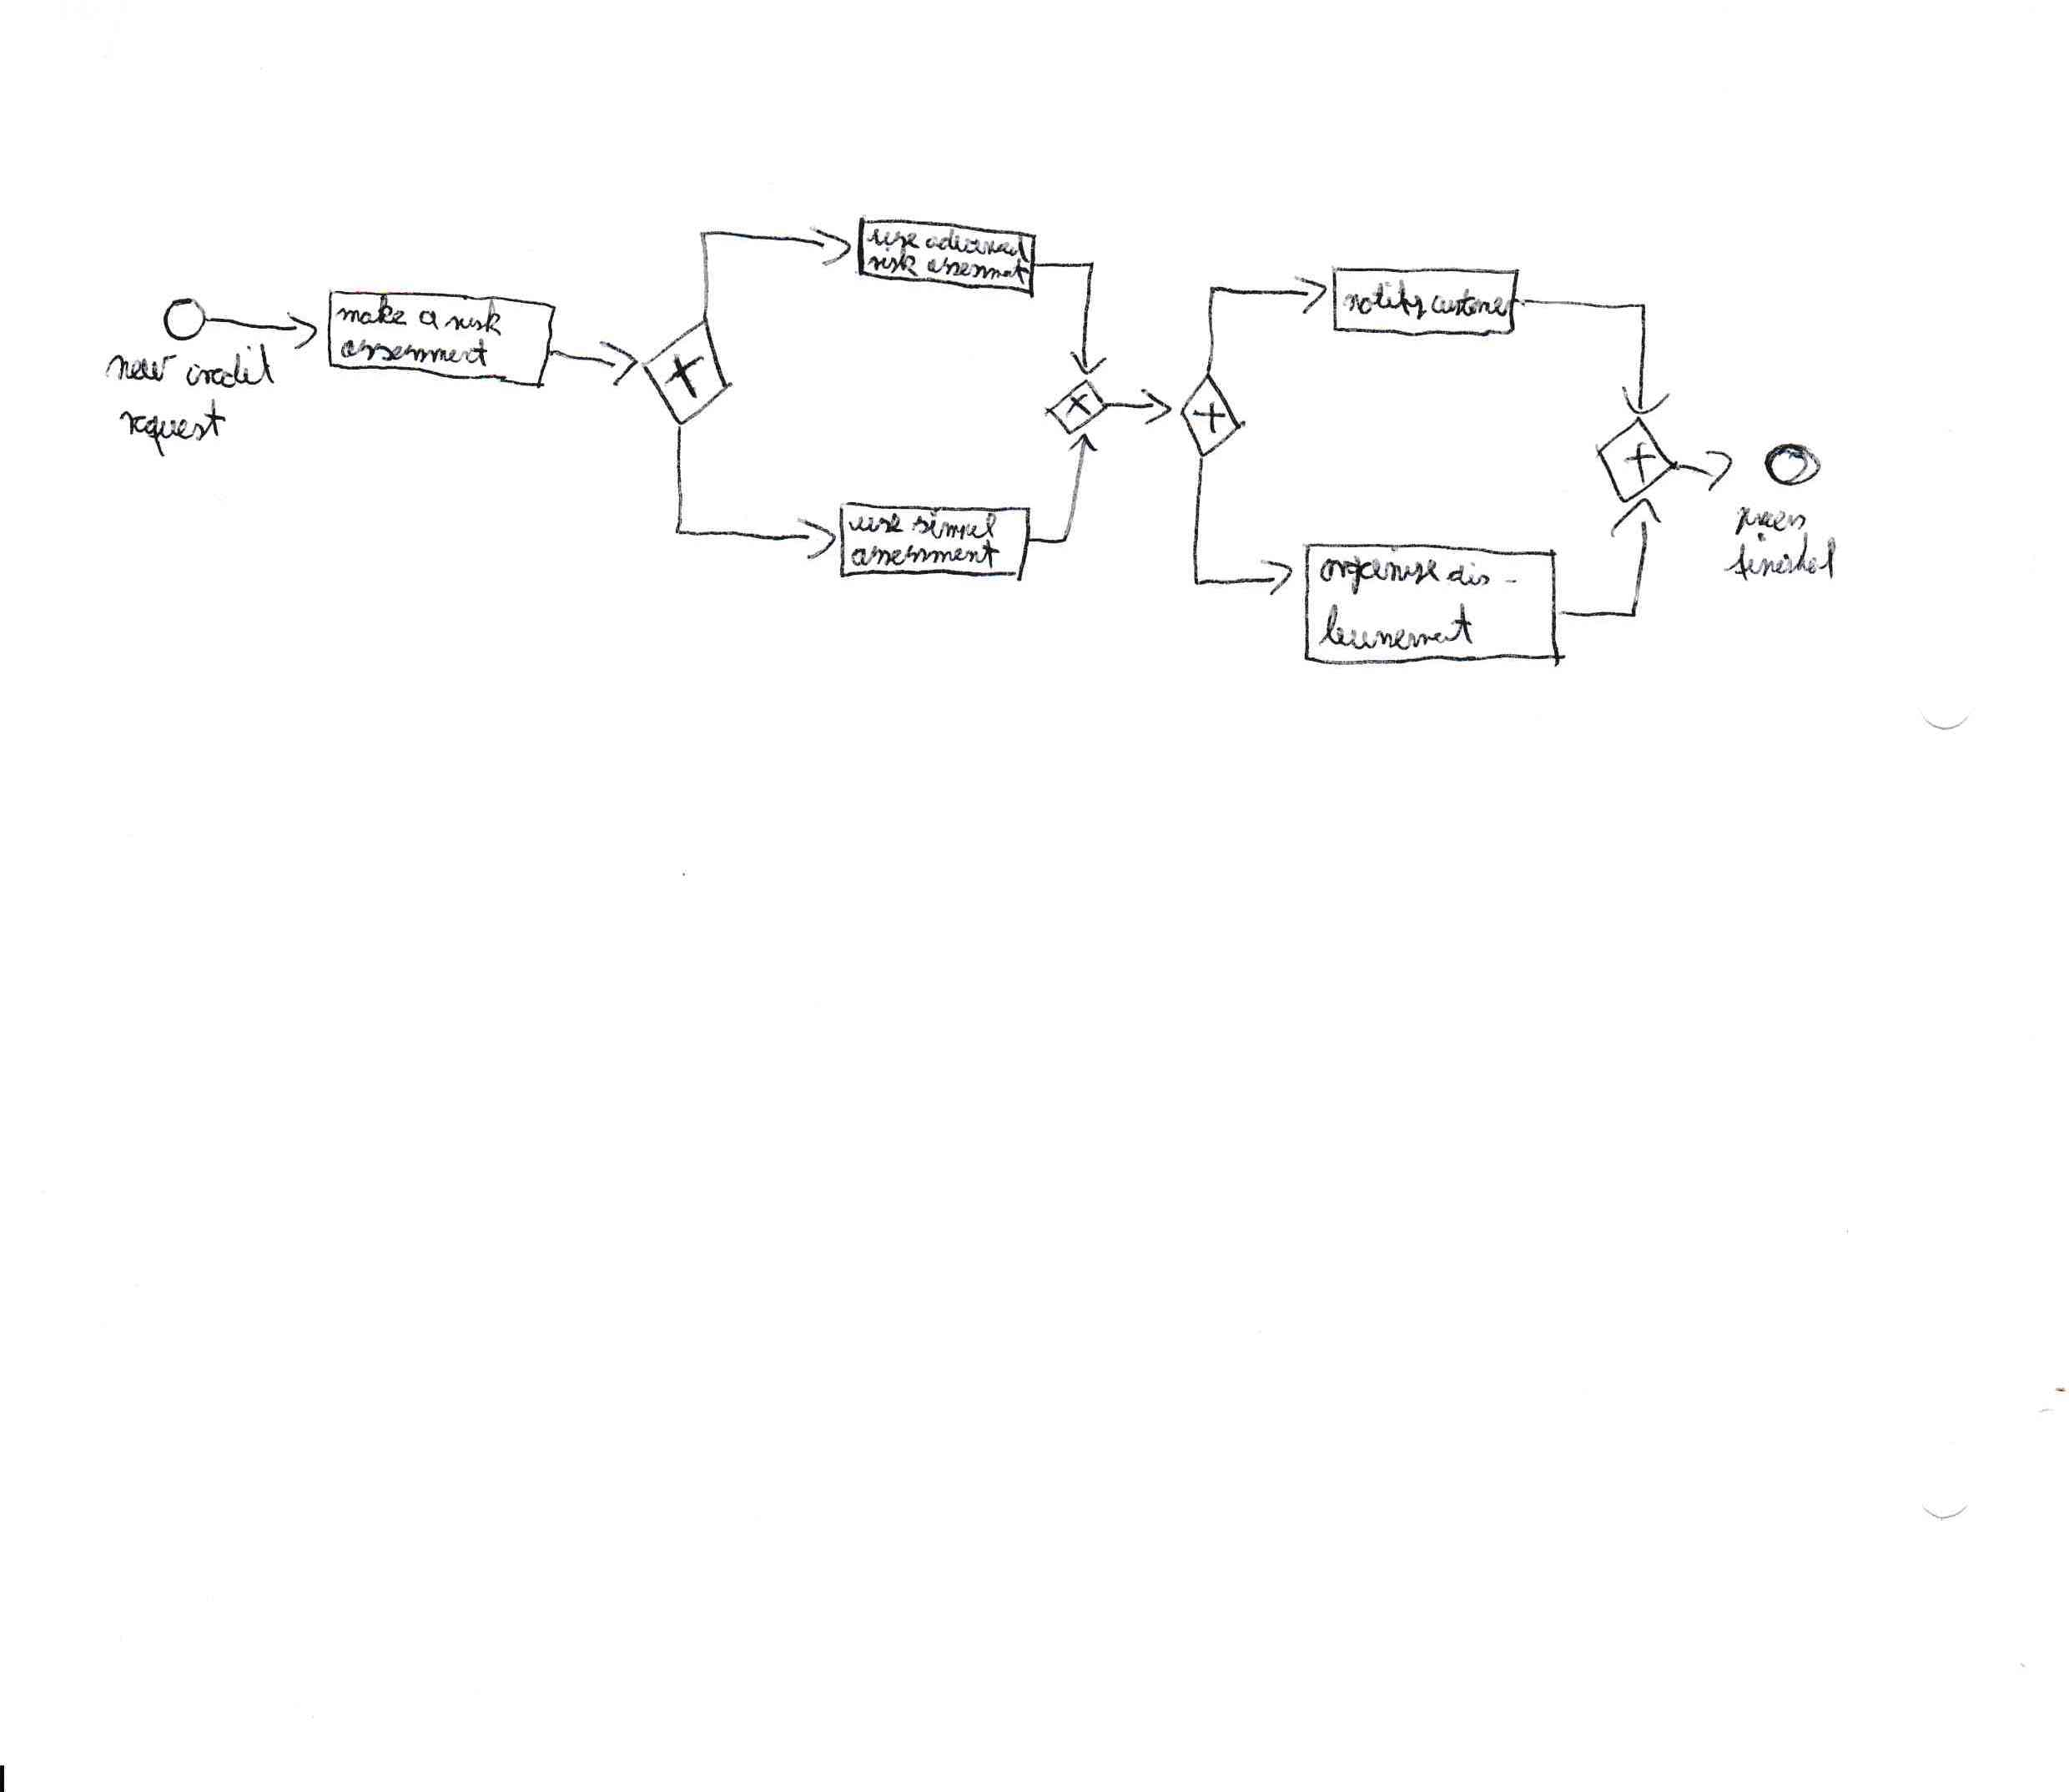a: (415, 302, 443, 338)
advanced: (922, 225, 1033, 266)
assessment: (336, 336, 493, 371), (848, 536, 1003, 570), (924, 257, 1034, 290)
credit: (181, 339, 280, 392)
customer: (1427, 285, 1524, 322)
dis-: (1443, 559, 1520, 593)
finished: (1719, 529, 1847, 586)
leunement: (1314, 600, 1476, 654)
make: (334, 292, 410, 329)
new: (102, 350, 181, 387)
notify: (1341, 276, 1430, 324)
organize: (1316, 543, 1443, 598)
process: (1729, 505, 1809, 538)
request: (114, 396, 229, 461)
risk: (442, 295, 505, 339), (864, 241, 922, 281)
simpel: (908, 508, 1001, 542)
use: (844, 508, 906, 538), (864, 223, 922, 251)
